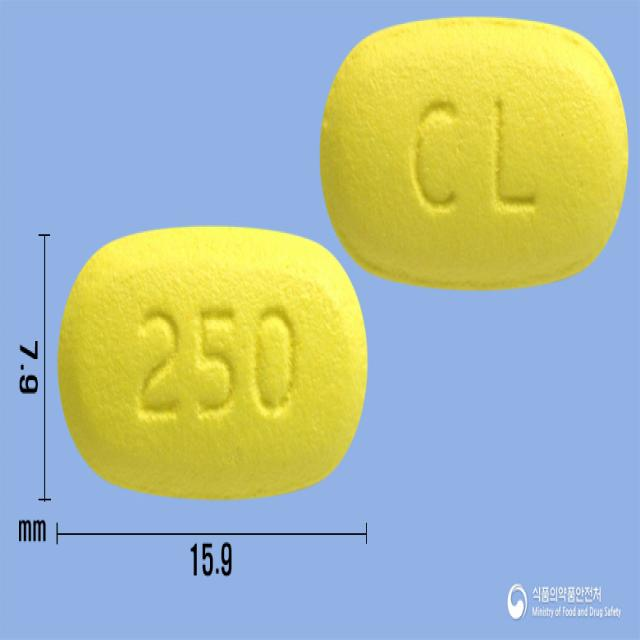Clao: (54, 220, 376, 510), (315, 10, 633, 294)
